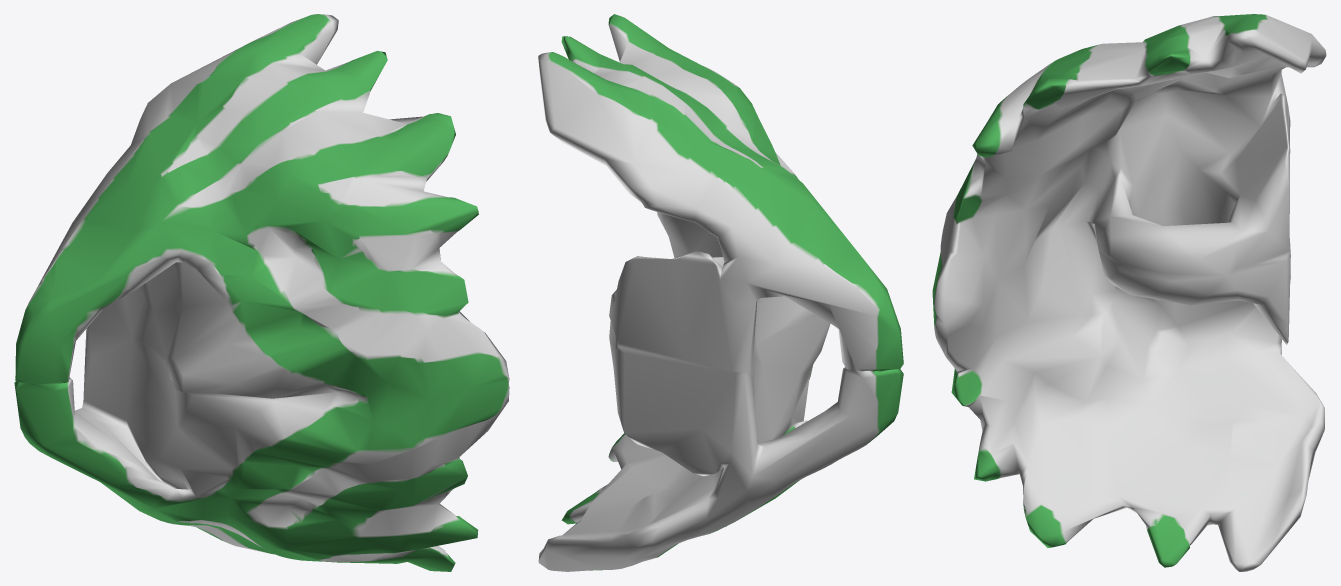
File: 109a7cfd-a453-412d-b1b8-207e5e2f63e6.glb
3 views of the same model, side by side, from view 1: azimuth 30°, elevation 25°; view 2: azimuth 150°, elevation 25°; view 3: azimuth 270°, elevation 25° (orthographic). The views are drawn at different scales.
Bounding box in the file's own units: 16.02 × 21.69 × 14.3.
